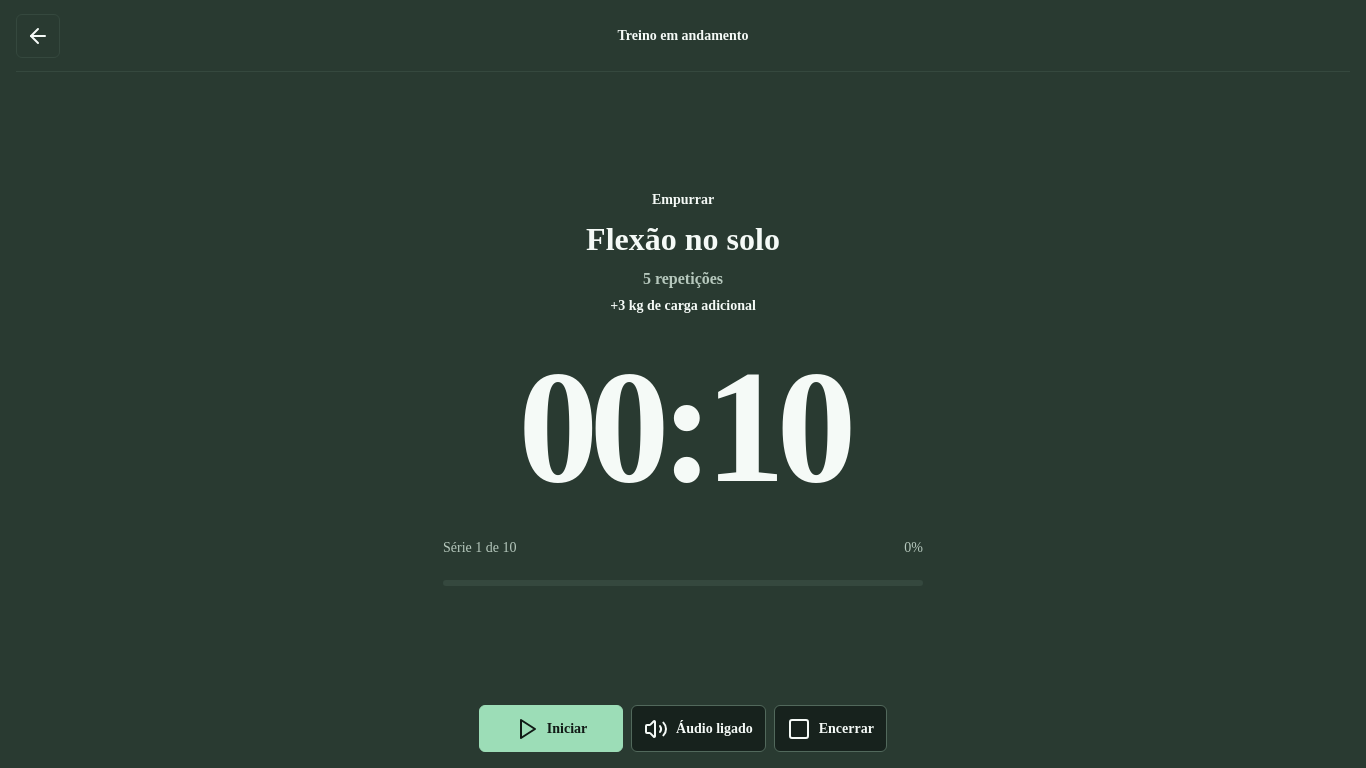
it: WorkoutTimer › mostra a carga do exercício ativo e omite carga zero
The image size is (1366, 768).
Expected: the text "+3 kg de carga adicional" is shown, [610,298,756,313]
Click the button "Iniciar".
click(551, 729)  # box [479,705,623,752]
Wait 70000 ms
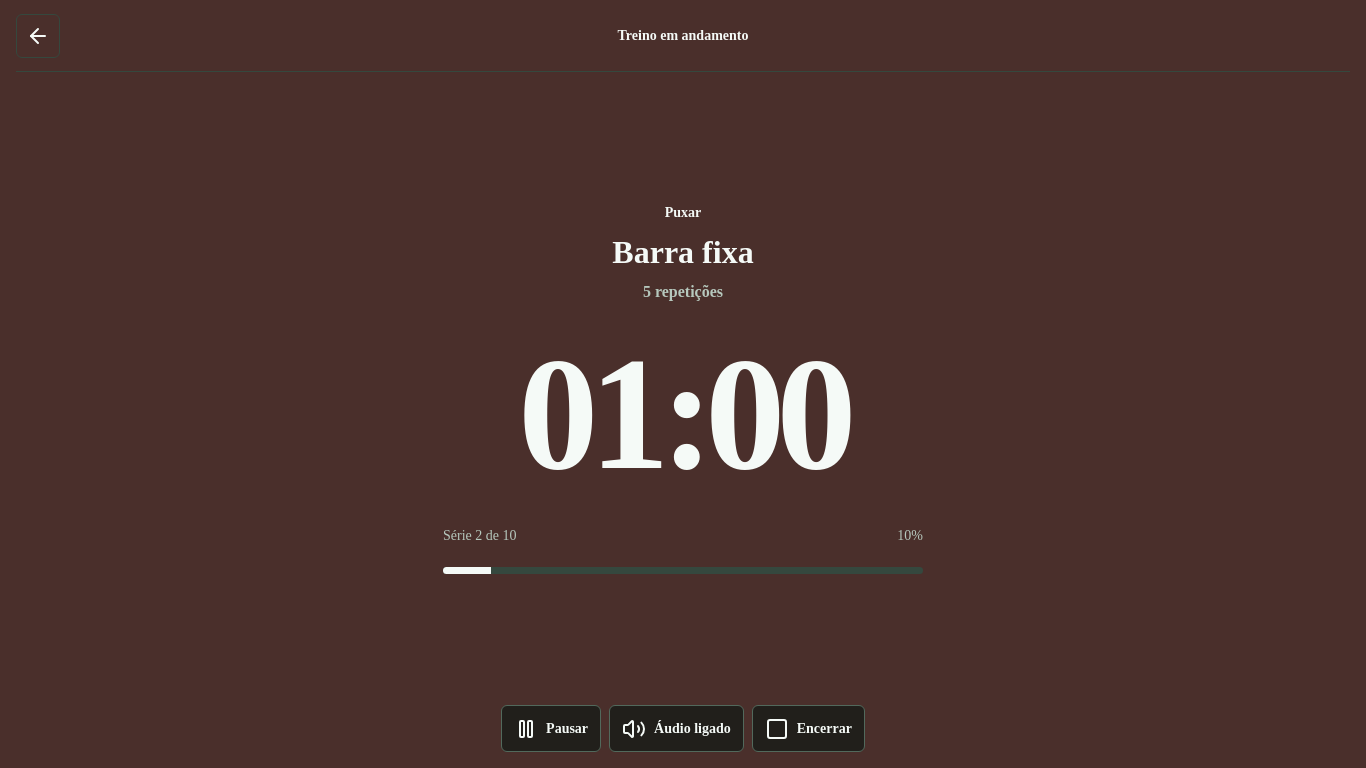
Result: the text "Puxar" is shown at [665,205,701,220]
Result: the text "kg de carga adicional" is gone
